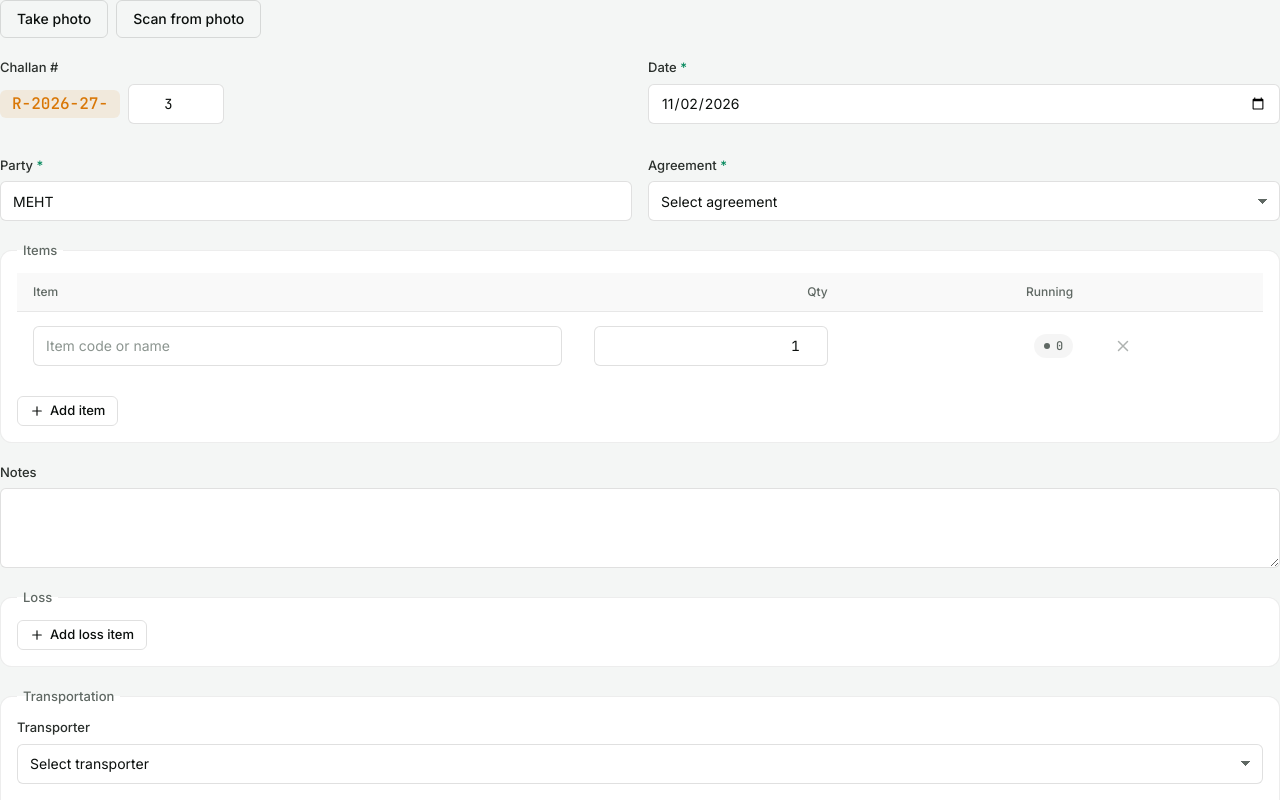
ChallanForm › submits the exact return payload with damaged items
This screenshot has width=1280, height=800.
Earlier steps of the test are not shown.
Later steps or results of the test are not shown.
Select "S1 — Plot 12 (from 1 Apr)" in the dropdown labelled "Agreement *" at (964, 201), box 648,181 -> 1279,221
Type "pi" into the dropdown named "item for row" at (297, 346), box 33,326 -> 562,366
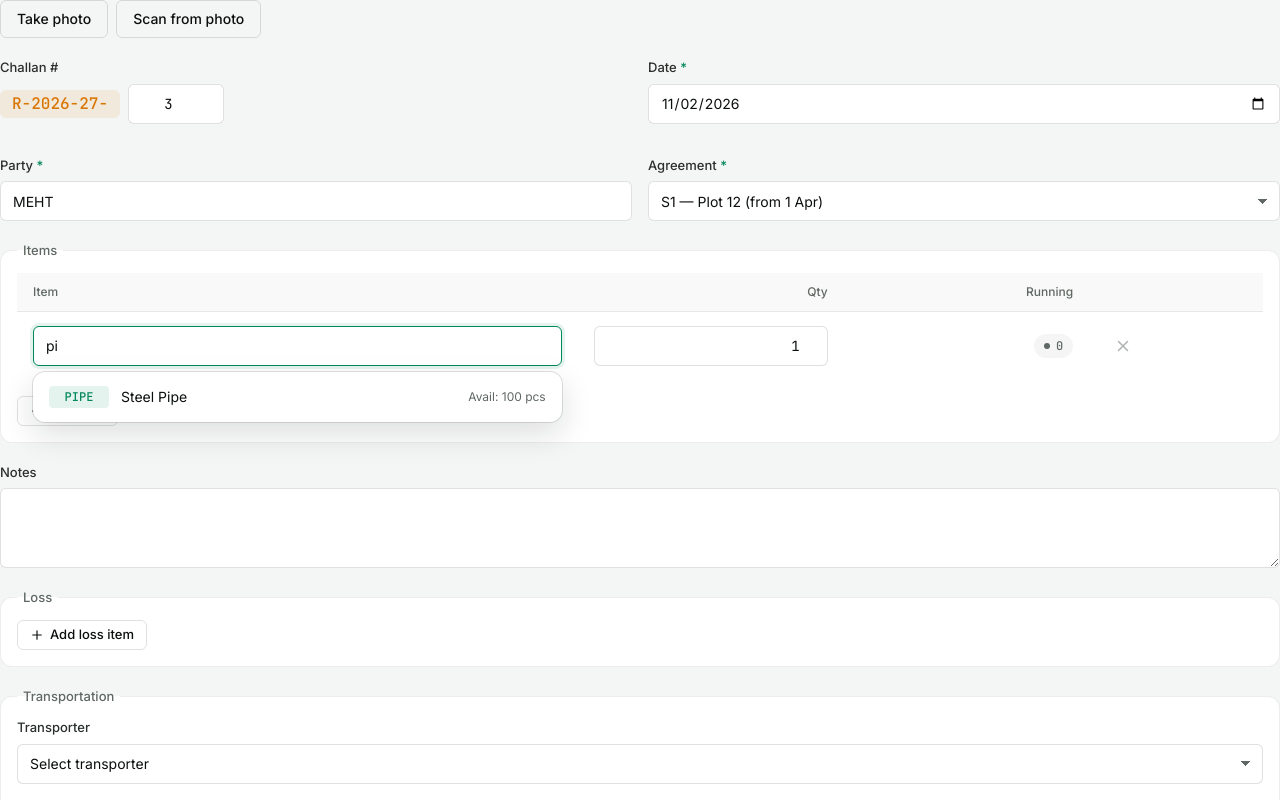
Click the option "PIPE Steel Pipe Avail: 100 pcs" at (79, 396), box 49,386 -> 546,408
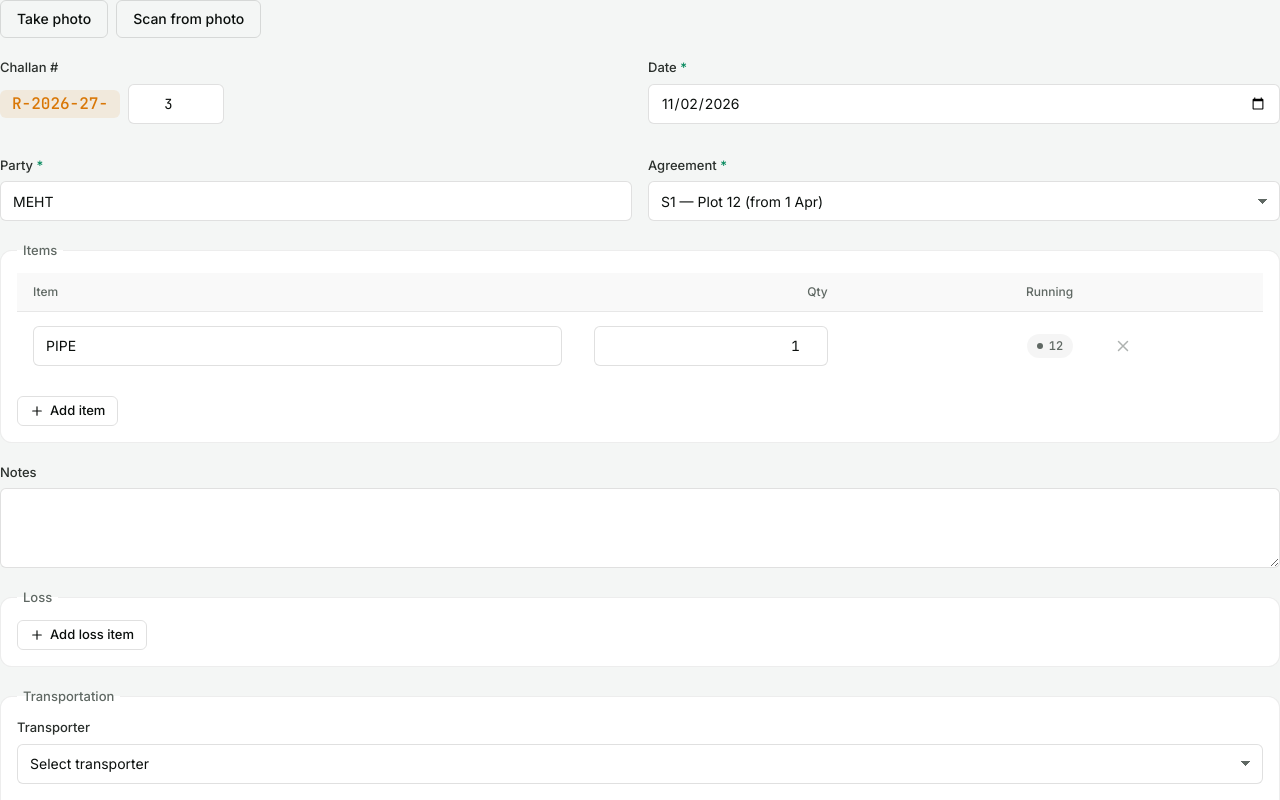
Click the button "Add loss item" at (82, 634), box 17,620 -> 147,650
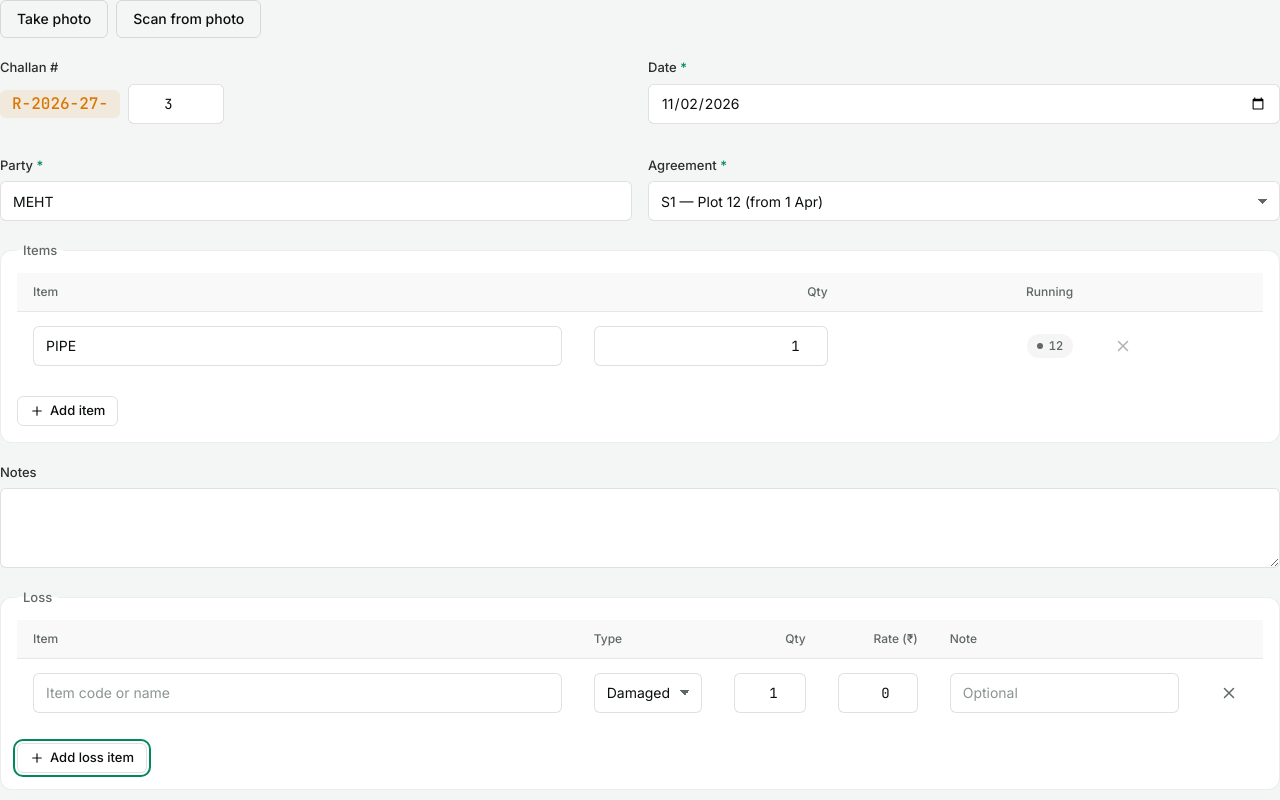
Type "cl" into the dropdown named "item for row" at (297, 692), box 33,672 -> 562,712
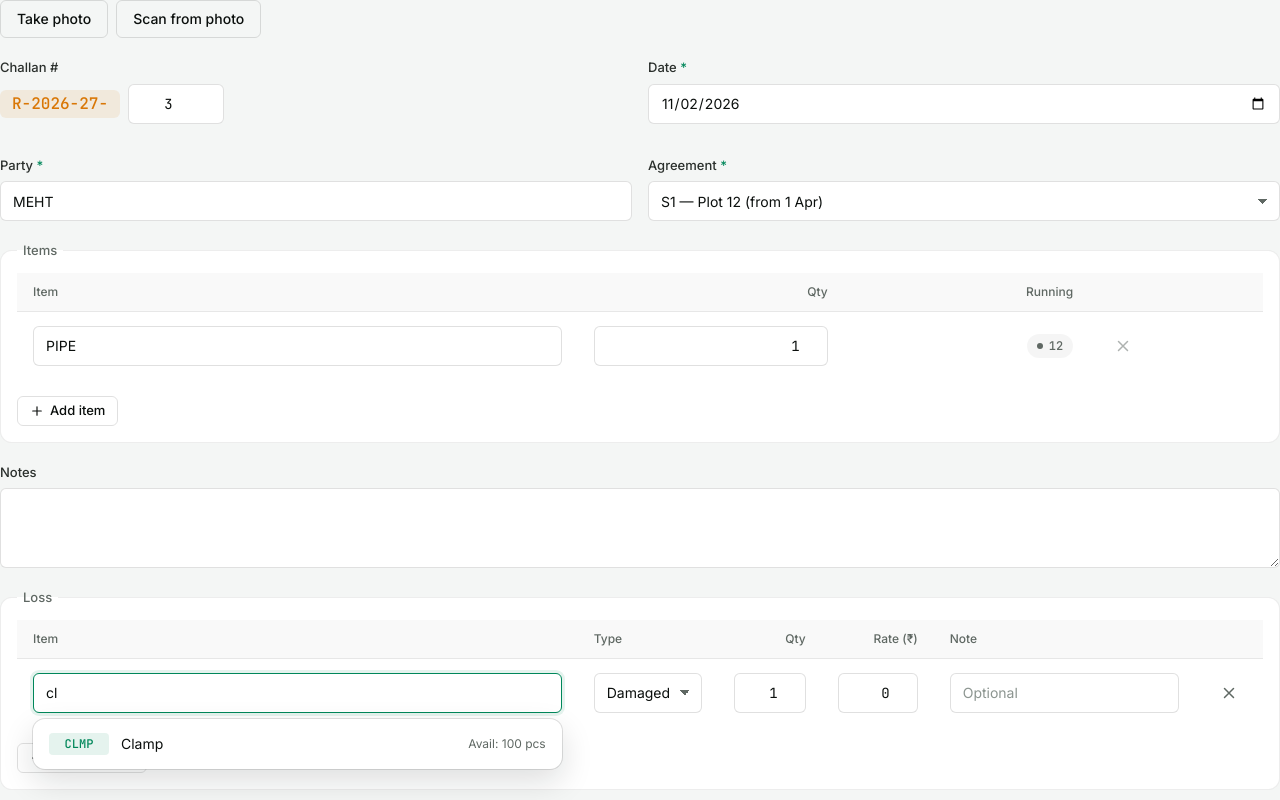
Click the option "CLMP Clamp Avail: 100 pcs" at (79, 744), box 49,732 -> 546,754
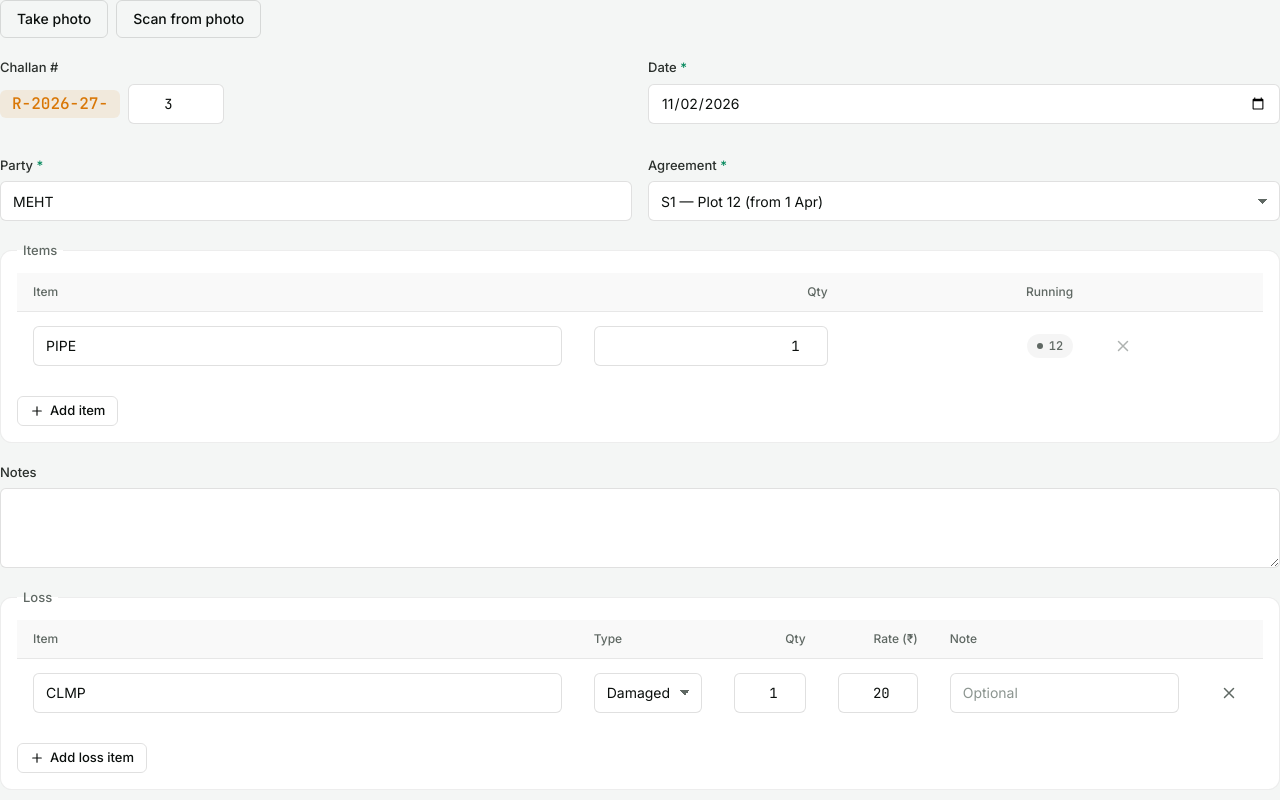
Expected: the number field showing "20" is shown, 838,672 -> 918,712
Select "Short" in the dropdown named "Loss type for row 1" at (648, 692), box 594,672 -> 702,712
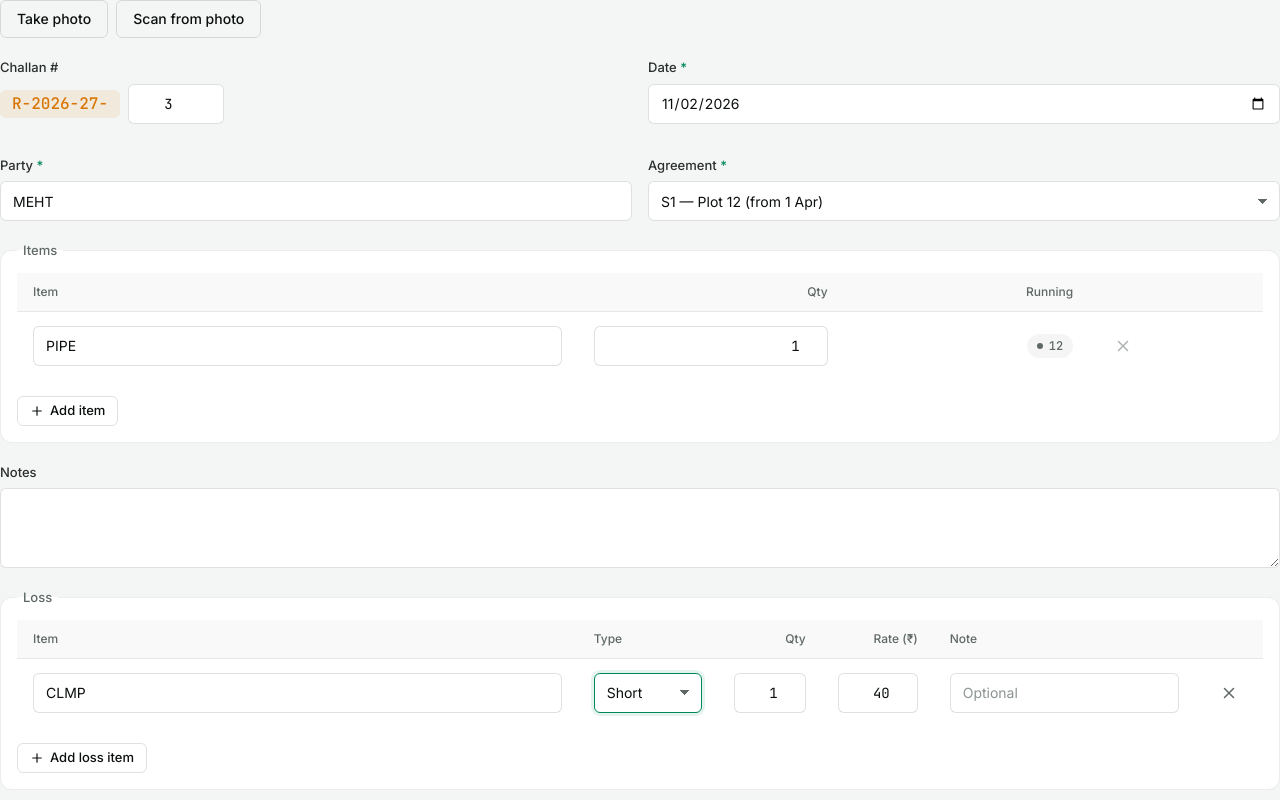
Expected: the number field showing "40" is shown, 838,672 -> 918,712
